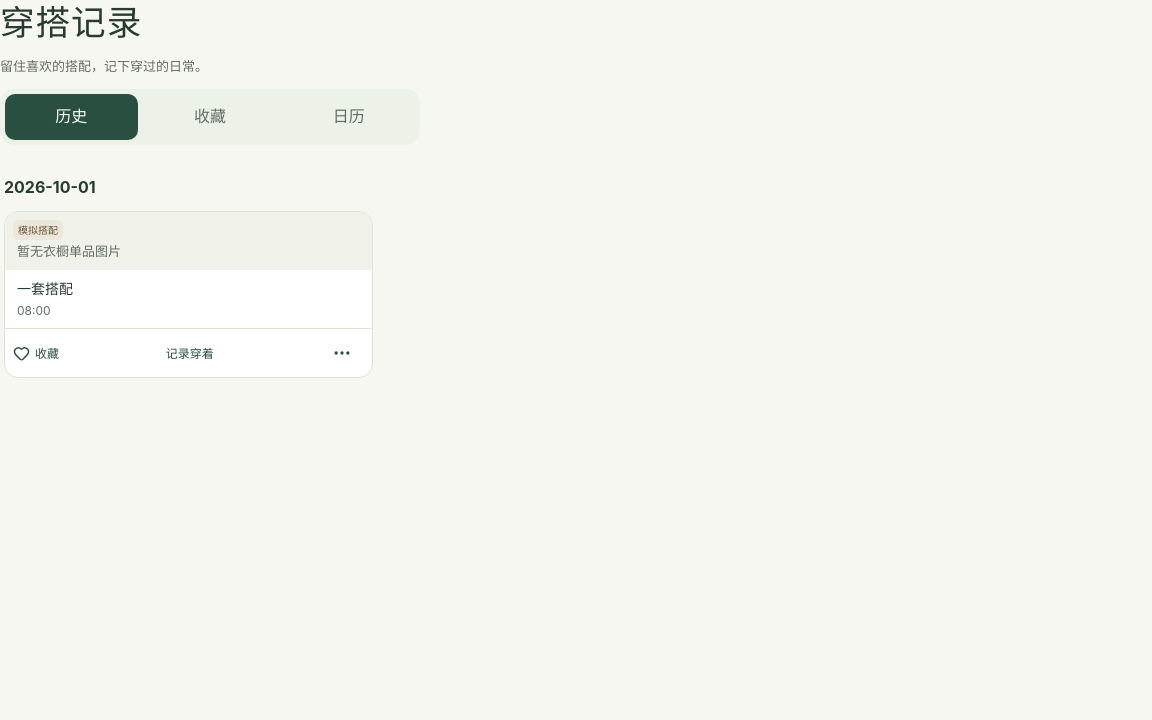
Test: history removal explains separate references and sends the displayed version only after confirmation
Click the button named "更多搭配操作": x=342, y=353 320,331 -> 364,375
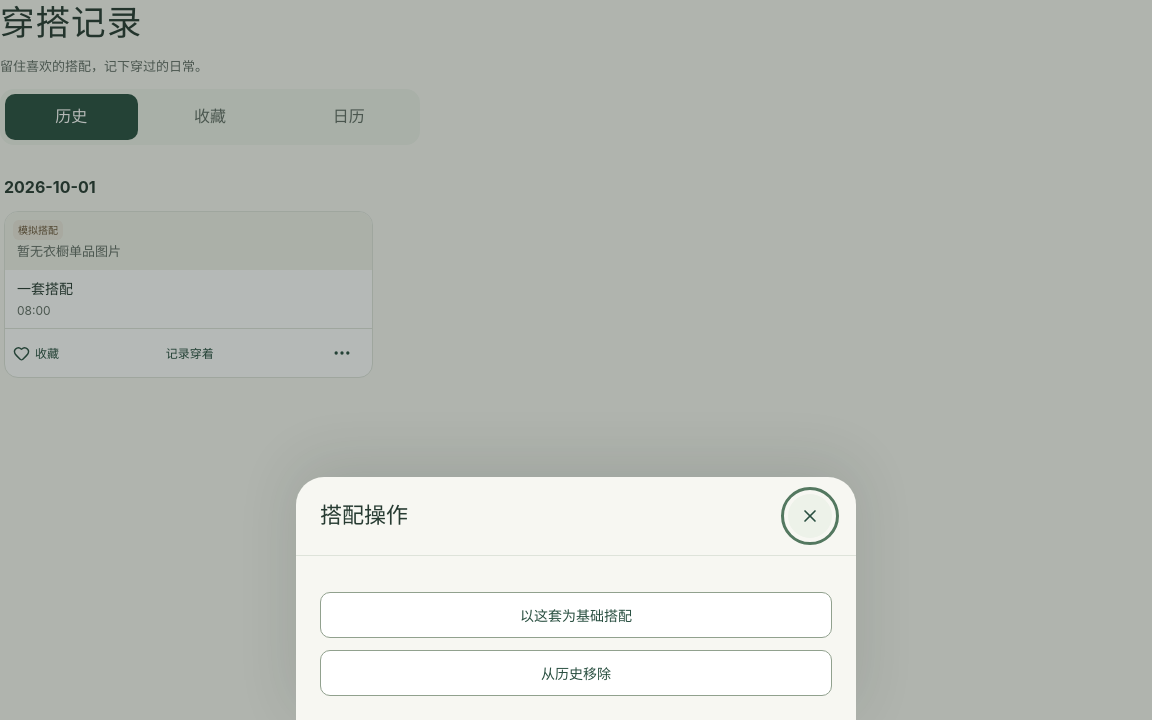
Click the button "从历史移除": x=576, y=673 320,650 -> 832,696
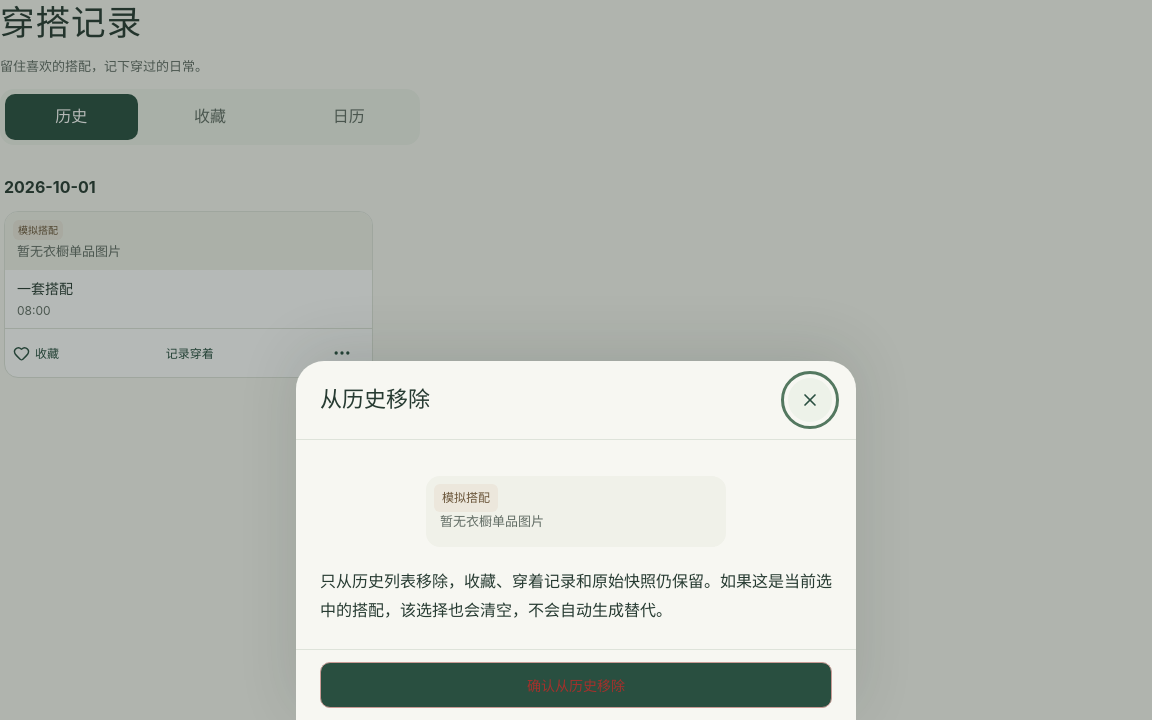
Result: the text "只从历史列表移除，收藏、穿着记录和原始快照仍保留。如果这是当前选中的搭配，该选择也会清空，不会自动生成替代。" is shown at 320,567 -> 832,625
Click the button "确认从历史移除": x=576, y=685 320,662 -> 832,708
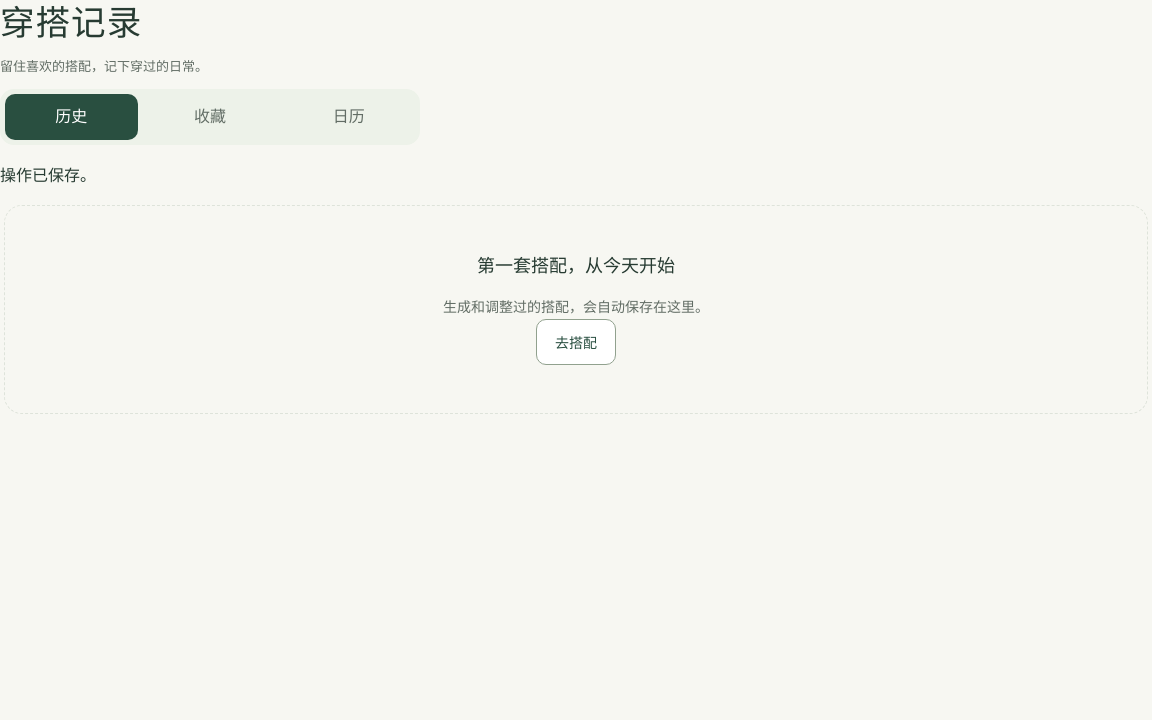
Result: the heading "第一套搭配，从今天开始" is shown at 477,255 -> 675,276
